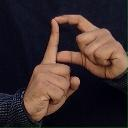hand: (22, 18, 80, 121), (51, 13, 127, 80)
